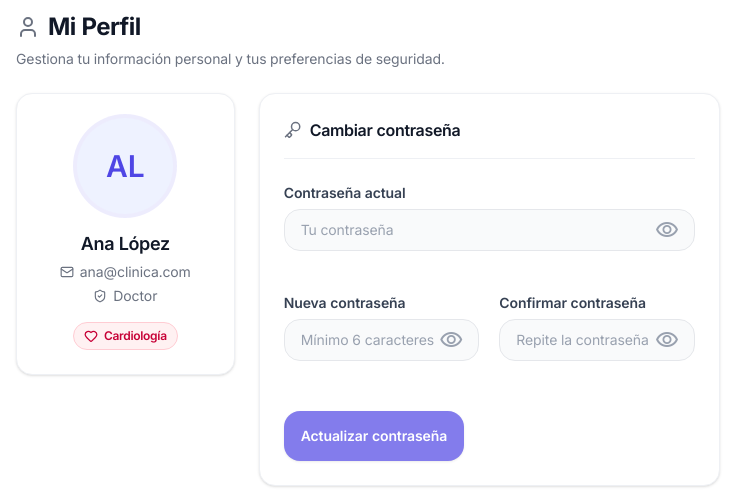
it: ProfilePage › disables the submit button until all three password fields are filled
expect the button "Actualizar contraseña" is disabled: met, box [284,411,464,461]
Type "actual123" into the password field labelled "Contraseña actual".
click(489, 230); type("actual123")  # box [284,209,695,251]
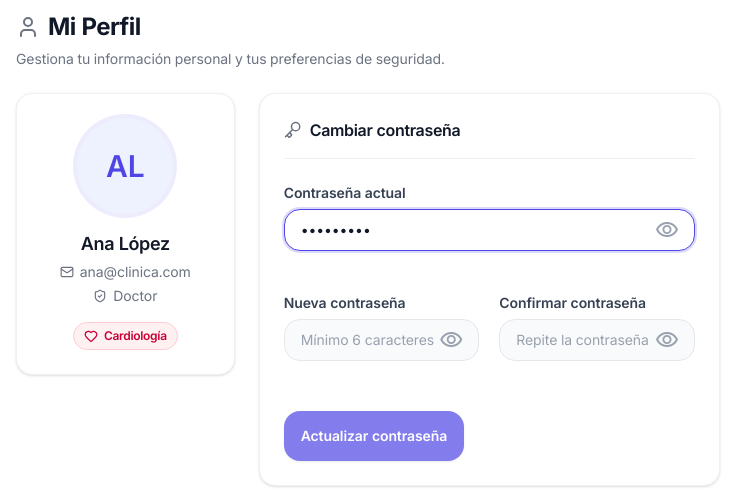
Type "nueva123" into the password field labelled "Nueva contraseña".
click(382, 340); type("nueva123")  # box [284,319,479,361]
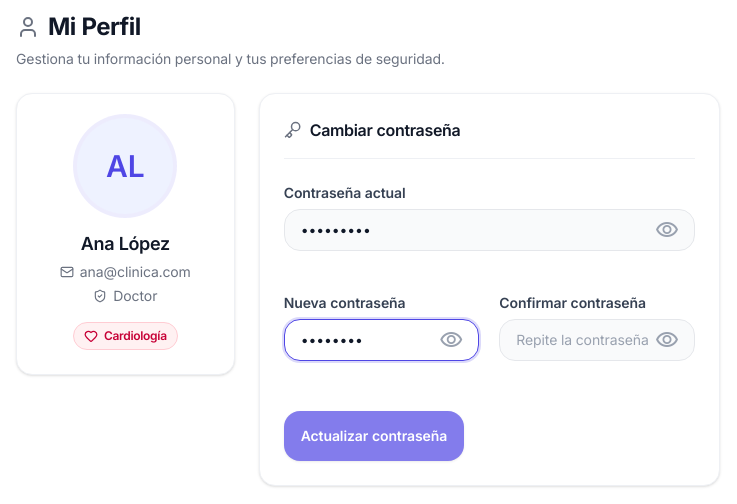
expect the button "Actualizar contraseña" is disabled: met, box [284,411,464,461]
Type "nueva123" into the password field labelled "Confirmar contraseña".
click(597, 340); type("nueva123")  # box [499,319,695,361]
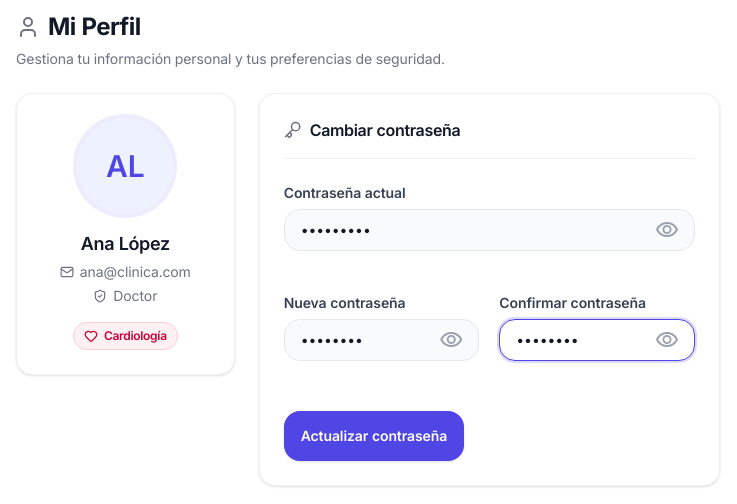
expect the button "Actualizar contraseña" is enabled: met, box [284,411,464,461]
